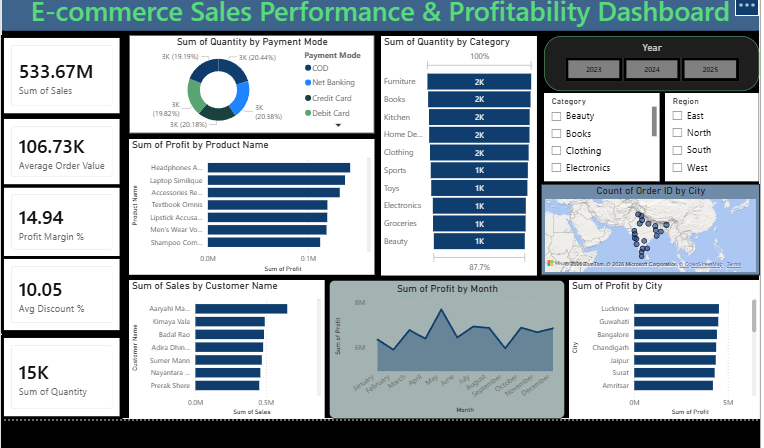

This screenshot's page, from the dashboard's own definition file:
{"tool":"powerbi","page":{"name":"Page 1","canvas":[1280,720],"ordinal":0},"visuals":[{"type":"textbox","title":"E-commerce Sales Performance & Profitability Dashboard ","box":[0,0,1279.7,720],"z":0},{"type":"cardVisual","fields":{"Data":["Sum(Ecommerce_Sales_Data_2024_2025.Sales)"]},"box":[0,72.5,205.1,137],"z":1000},{"type":"cardVisual","fields":{"Data":["Ecommerce_Sales_Data_2024_2025.Profit Margin %"]},"box":[0,323.3,205.1,129],"z":2000},{"type":"cardVisual","fields":{"Data":["Ecommerce_Sales_Data_2024_2025.Avg Discount %"]},"box":[0,446,205.1,130.7],"z":3000},{"type":"cardVisual","fields":{"Data":["Ecommerce_Sales_Data_2024_2025.Average Order Value"]},"box":[0,209.6,205.1,120.9],"z":4000},{"type":"cardVisual","fields":{"Data":["Sum(Ecommerce_Sales_Data_2024_2025.Quantity)"]},"box":[0,577.6,205.1,142.4],"z":5000},{"type":"map","title":"Count of Order ID by City","fields":{"Size":["Sum(Ecommerce_Sales_Data_2024_2025.Quantity)"],"Category":["Ecommerce_Sales_Data_2024_2025.City"]},"box":[909.9,323.3,369,154],"z":6000},{"type":"donutChart","fields":{"Y":["Sum(Ecommerce_Sales_Data_2024_2025.Quantity)"],"Category":["Ecommerce_Sales_Data_2024_2025.Payment Mode"]},"box":[215.8,73.4,413.7,172.8],"z":8000},{"type":"areaChart","fields":{"Category":["Ecommerce_Sales_Data_2024_2025.Order Date.Variation.Date Hierarchy.Month"],"Y":["Sum(Ecommerce_Sales_Data_2024_2025.Profit)"]},"box":[552.5,485.4,397.6,233.7],"z":9000},{"type":"slicer","title":"Year","fields":{"Values":["Ecommerce_Sales_Data_2024_2025.Order Date.Variation.Date Hierarchy.Year"]},"box":[916.1,73.4,362.7,93.1],"z":10000},{"type":"funnel","fields":{"Category":["Ecommerce_Sales_Data_2024_2025.Category"],"Y":["Sum(Ecommerce_Sales_Data_2024_2025.Quantity)"]},"box":[640.3,73.4,263.3,403.9],"z":11000},{"type":"barChart","fields":{"Category":["Ecommerce_Sales_Data_2024_2025.Customer Name"],"Y":["Sum(Ecommerce_Sales_Data_2024_2025.Sales)"]},"box":[215.8,486.3,329.6,233.7],"z":12000},{"type":"clusteredBarChart","fields":{"Category":["Ecommerce_Sales_Data_2024_2025.City"],"Y":["Sum(Ecommerce_Sales_Data_2024_2025.Profit)"]},"box":[958.2,485.4,321.5,233.7],"z":13000},{"type":"slicer","fields":{"Values":["Ecommerce_Sales_Data_2024_2025.Region"]},"box":[1119.4,171,157.6,148.7],"z":14000},{"type":"slicer","fields":{"Values":["Ecommerce_Sales_Data_2024_2025.Category"]},"box":[916.1,171,195.2,148.7],"z":15000},{"type":"clusteredBarChart","fields":{"Category":["Ecommerce_Sales_Data_2024_2025.Product Name"],"Y":["Sum(Ecommerce_Sales_Data_2024_2025.Profit)"]},"box":[215.8,252.5,413.7,224.8],"z":16000}]}

Visuals, with their boxes in screenshot pixels (x1, y1, x2, y2):
"E-commerce Sales Performance & Profitability Dashboard " textbox: (2, 0, 755, 416)
cardVisual - Sum(Ecommerce_Sales_Data_2024_2025.Sales): (2, 35, 123, 115)
cardVisual - Ecommerce_Sales_Data_2024_2025.Profit Margin %: (2, 182, 123, 258)
cardVisual - Ecommerce_Sales_Data_2024_2025.Avg Discount %: (2, 255, 123, 331)
cardVisual - Ecommerce_Sales_Data_2024_2025.Average Order Value: (2, 115, 123, 187)
cardVisual - Sum(Ecommerce_Sales_Data_2024_2025.Quantity): (2, 332, 123, 416)
"Count of Order ID by City" map: (538, 182, 755, 273)
donutChart - Sum(Ecommerce_Sales_Data_2024_2025.Quantity) x Ecommerce_Sales_Data_2024_2025.Payment Mode: (129, 35, 373, 137)
areaChart - Ecommerce_Sales_Data_2024_2025.Order Date.Variation.Date Hierarchy.Month x Sum(Ecommerce_Sales_Data_2024_2025.Profit): (327, 278, 561, 415)
"Year" slicer: (541, 35, 755, 90)
funnel - Ecommerce_Sales_Data_2024_2025.Category x Sum(Ecommerce_Sales_Data_2024_2025.Quantity): (379, 35, 534, 273)
barChart - Ecommerce_Sales_Data_2024_2025.Customer Name x Sum(Ecommerce_Sales_Data_2024_2025.Sales): (129, 278, 323, 416)
clusteredBarChart - Ecommerce_Sales_Data_2024_2025.City x Sum(Ecommerce_Sales_Data_2024_2025.Profit): (566, 278, 755, 415)
slicer - Ecommerce_Sales_Data_2024_2025.Region: (661, 93, 754, 180)
slicer - Ecommerce_Sales_Data_2024_2025.Category: (541, 93, 656, 180)
clusteredBarChart - Ecommerce_Sales_Data_2024_2025.Product Name x Sum(Ecommerce_Sales_Data_2024_2025.Profit): (129, 141, 373, 273)
